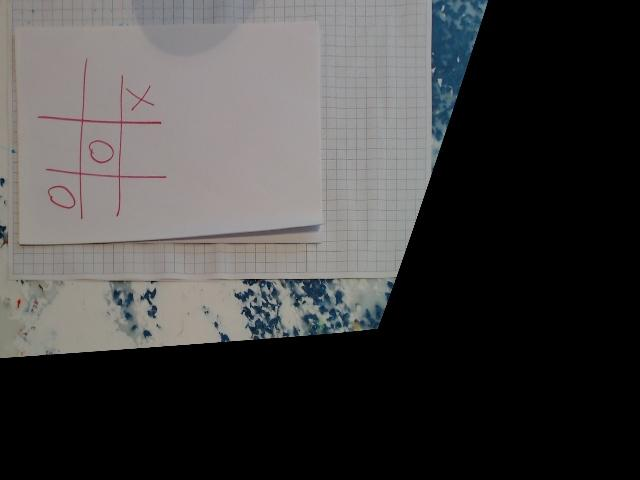O: (84, 139, 116, 166)
X: (126, 81, 159, 114), (41, 185, 76, 211)
grid: (31, 58, 177, 223)
